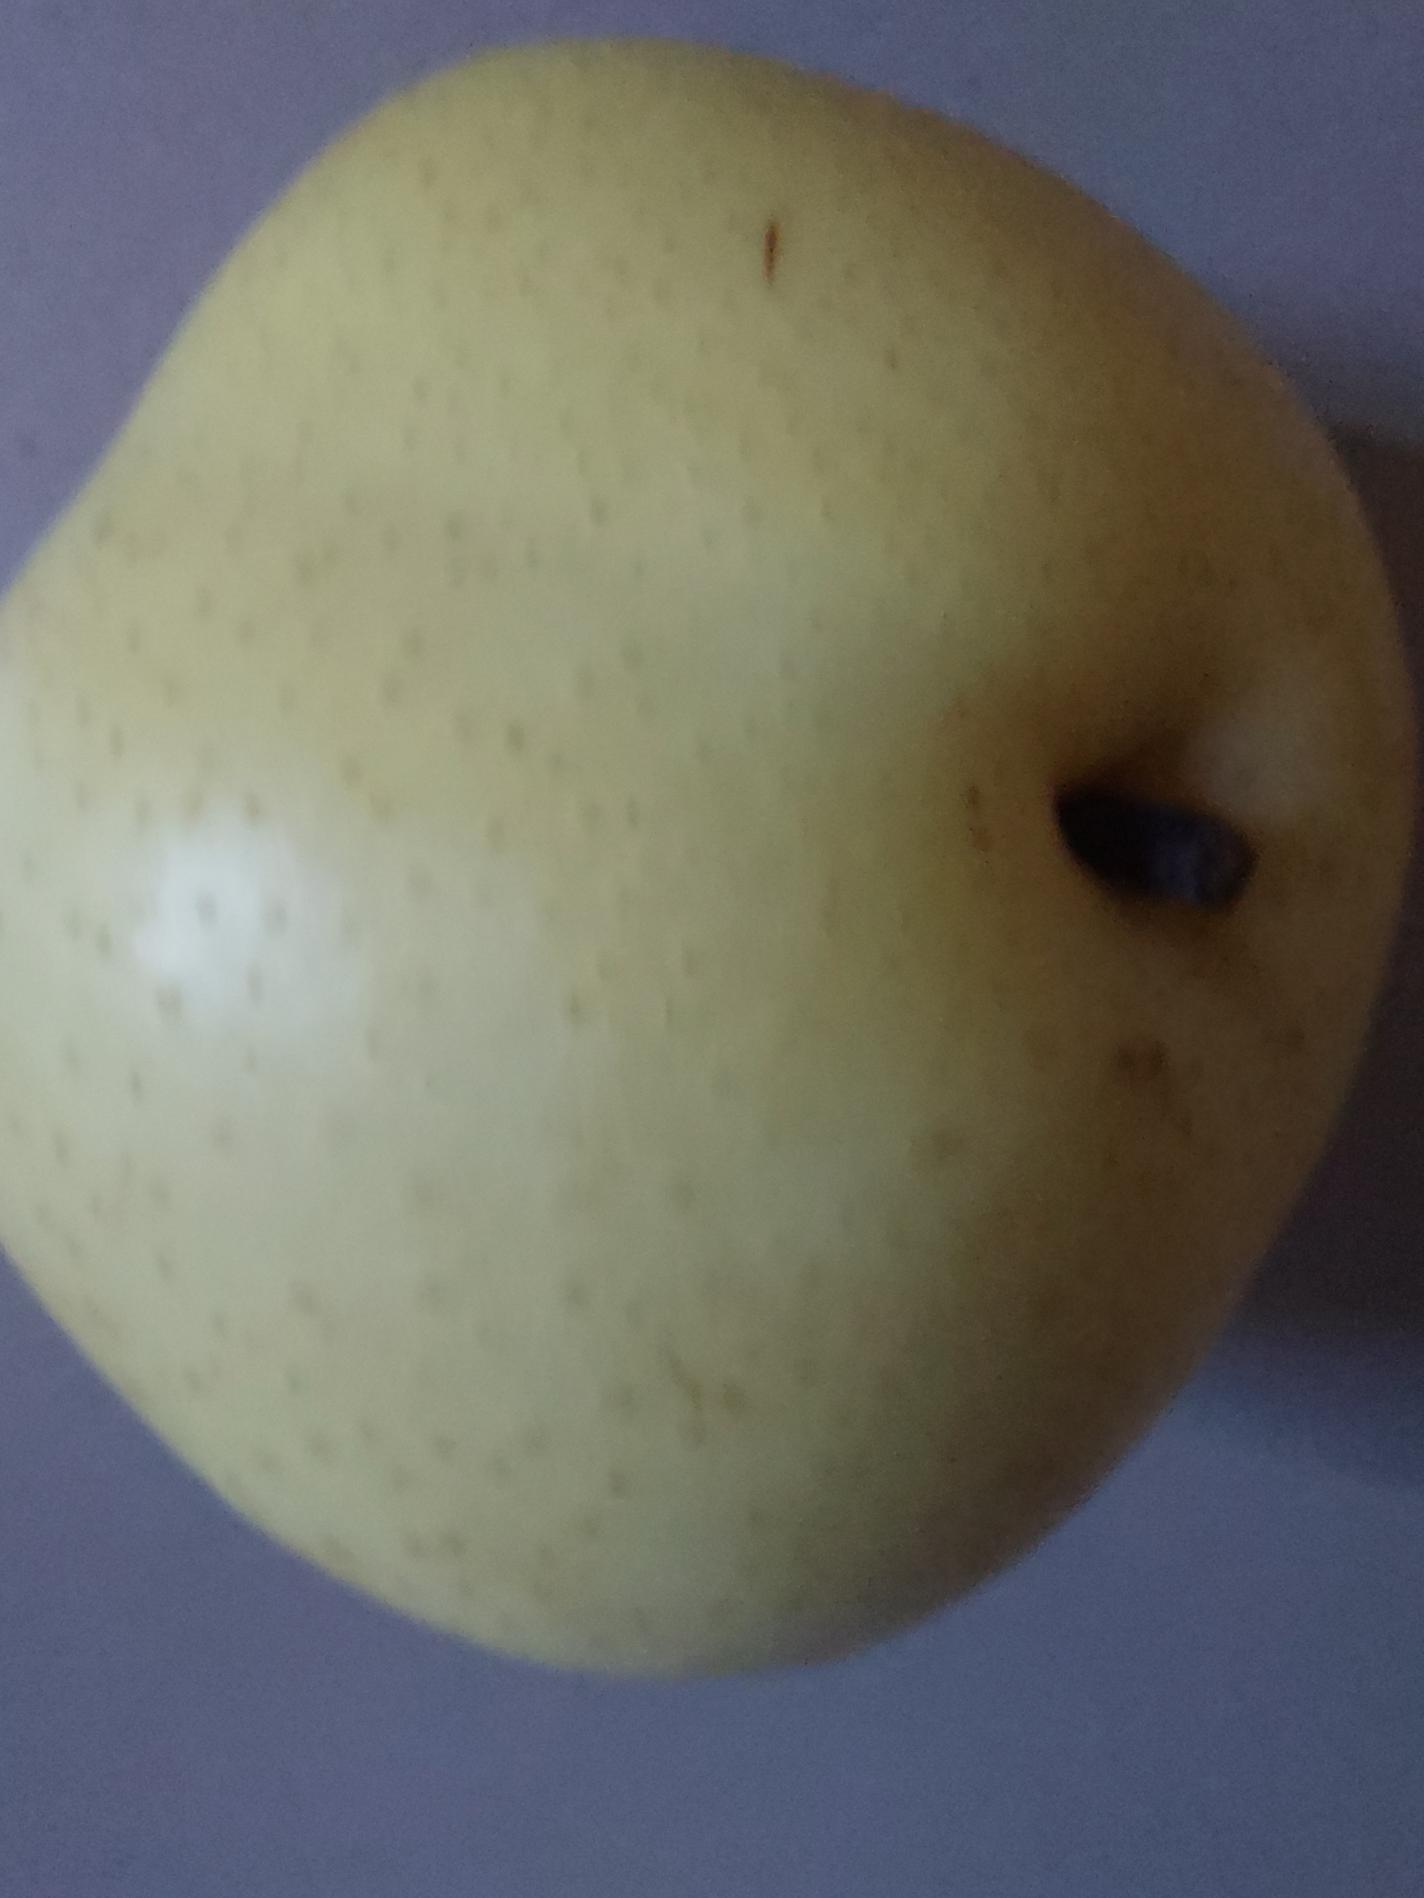Good Pear: (0, 31, 1424, 1695)
